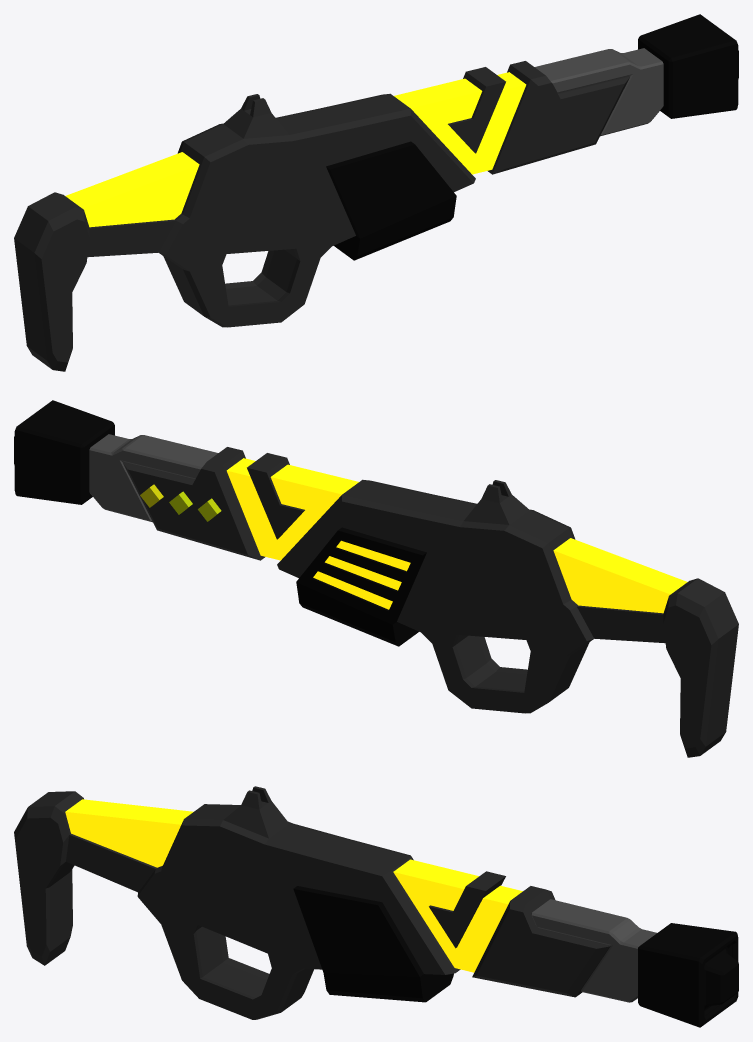
The model's file is Weapon1.fbx.
3 renders of one model, top to bottom at view 1: azimuth 30°, elevation 25°; view 2: azimuth 150°, elevation 25°; view 3: azimuth 330°, elevation 25°, orthographic.
Visible parts, largest first — view 1: CuerpoArma, Glow, GuardaManos, Bocacha, Cañon; view 2: CuerpoArma, Glow, GuardaManos, Bocacha, Cañon, GuardaManosGlow; view 3: CuerpoArma, Glow, GuardaManos, Bocacha, Cañon.
Part boxes in pixels (x1,y1,x2,y2): CuerpoArma: (14,61,630,371); Glow: (65,72,526,227); GuardaManos: (326,141,456,260); Bocacha: (638,14,738,118); Cañon: (534,48,663,136); CuerpoArma: (122,447,738,757); Glow: (226,458,687,613); GuardaManos: (296,527,426,646); Bocacha: (14,400,114,504); Cañon: (89,434,218,522); GuardaManosGlow: (313,540,410,609); CuerpoArma: (14,786,610,1019); Glow: (65,799,522,972); GuardaManos: (293,886,453,1002); Bocacha: (638,923,738,1027); Cañon: (531,899,656,1002).
Size of the model in its own units: 4002 by 1186 by 377.
